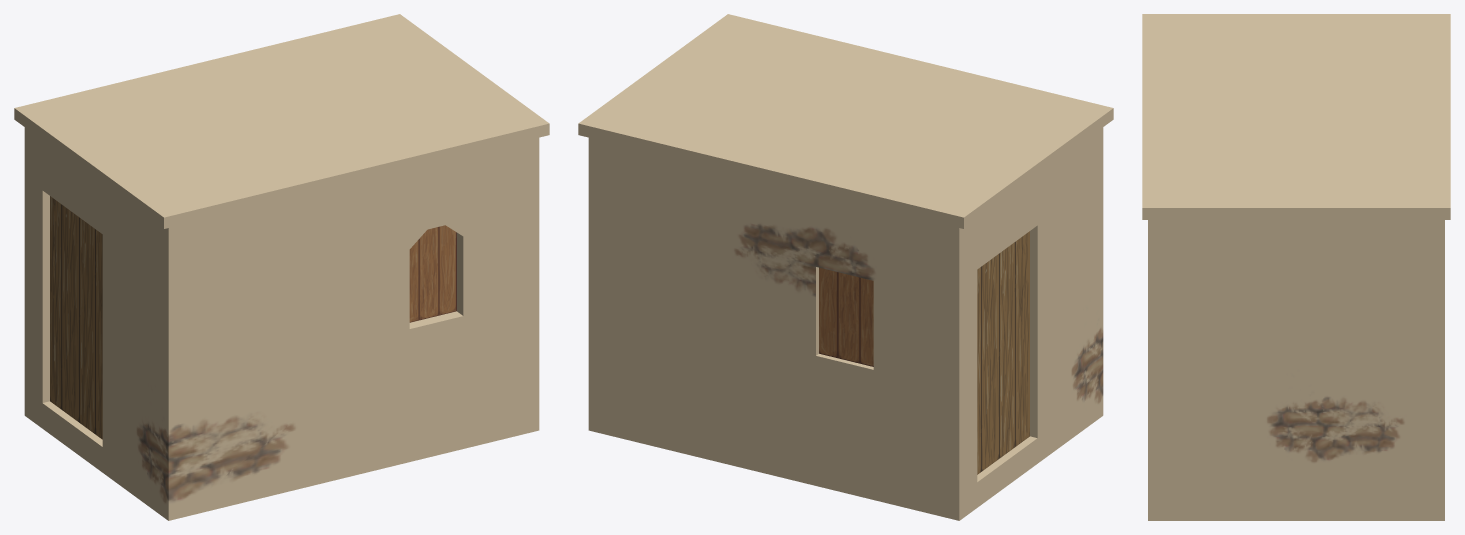
Rendered from VillageHouse04.fbx.
The picture shows the model from 3 angles, left to right: view 1: azimuth 30°, elevation 25°; view 2: azimuth 150°, elevation 25°; view 3: azimuth 270°, elevation 25°; orthographic projection. The views are drawn at different scales.
Visible parts, largest first — view 1: House04; view 2: House04; view 3: House04.
Part boxes in pixels (bbox=[...]): House04: bbox=[14, 14, 549, 520]; House04: bbox=[578, 14, 1113, 520]; House04: bbox=[1142, 14, 1450, 520].
Bounding box in the file's own units: 817 × 622 × 550.
